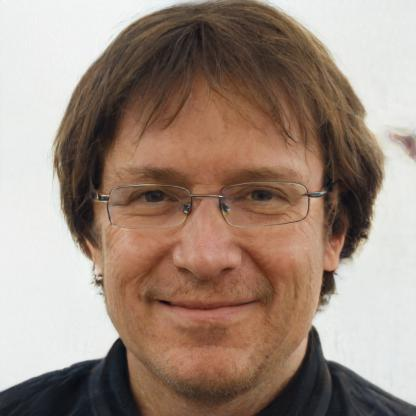glasses: (95, 175, 324, 232)
